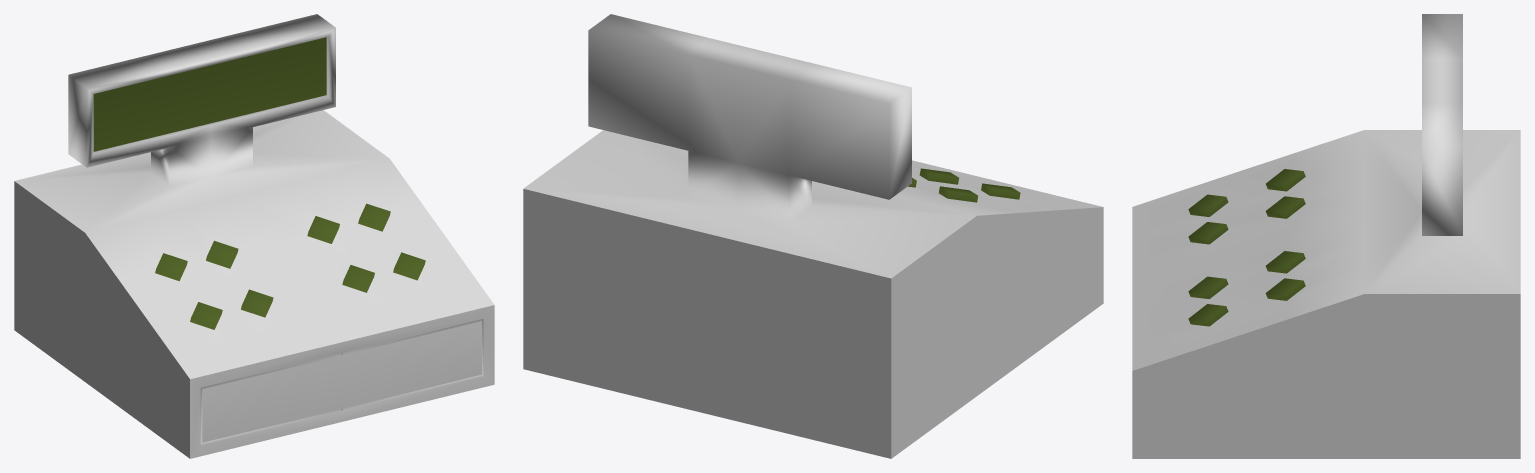
The model's file is cash_register.glb.
3 renders of one model, left to right at view 1: azimuth 30°, elevation 25°; view 2: azimuth 150°, elevation 25°; view 3: azimuth 270°, elevation 25°, orthographic. The views are drawn at different scales.
Visible parts, largest first — view 1: Cube.003; view 2: Cube.003; view 3: Cube.003.
Part boxes in pixels (x1,y1,x2,y2): Cube.003: (14, 14, 494, 458); Cube.003: (523, 14, 1103, 458); Cube.003: (1132, 14, 1520, 458).
Size of the model in its own units: 0.4 by 0.3362 by 0.4.
